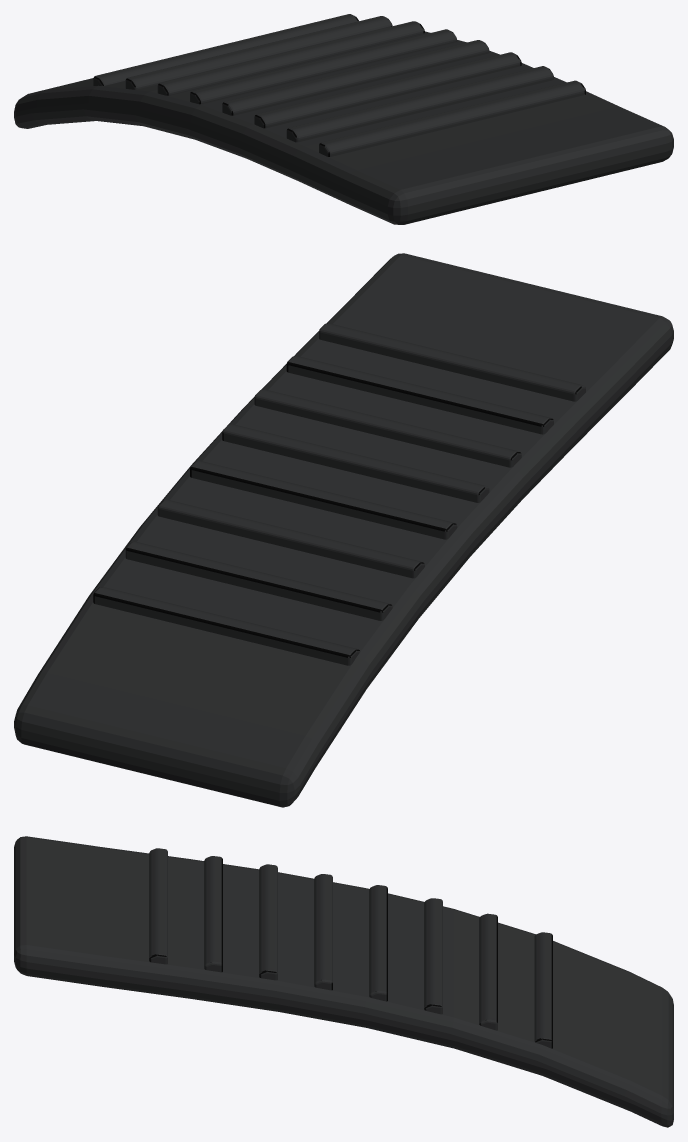
The model's file is SM_M590_Safety.fbx.
3 views of the same model, one above another, from view 1: azimuth 30°, elevation 25°; view 2: azimuth 150°, elevation 25°; view 3: azimuth 270°, elevation 25° (orthographic). The views are drawn at different scales.
Visible parts, largest first — view 1: SM_M590_Safety; view 2: SM_M590_Safety; view 3: SM_M590_Safety.
Boxes of the visible parts, left/top/right/bottom form: SM_M590_Safety: left=14, top=14, right=673, bottom=224; SM_M590_Safety: left=14, top=253, right=673, bottom=807; SM_M590_Safety: left=14, top=836, right=673, bottom=1127.
Bounding box in the file's own units: 1.1 × 2.59 × 0.7907.
